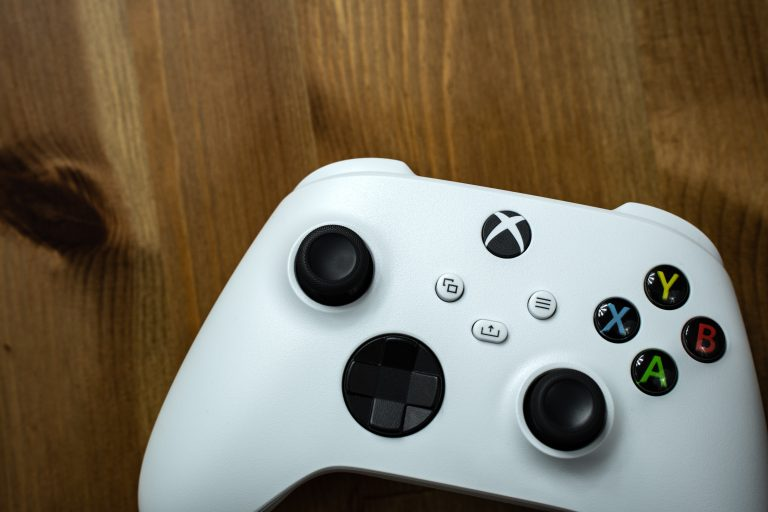controller: (135, 157, 768, 512)
